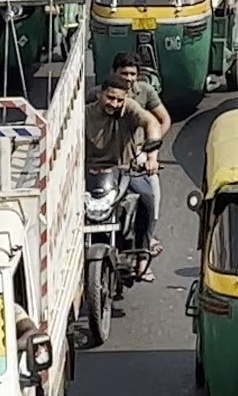BikeWithRider: (49, 43, 173, 348)
NoHelmet: (98, 74, 129, 122), (112, 49, 142, 88)
